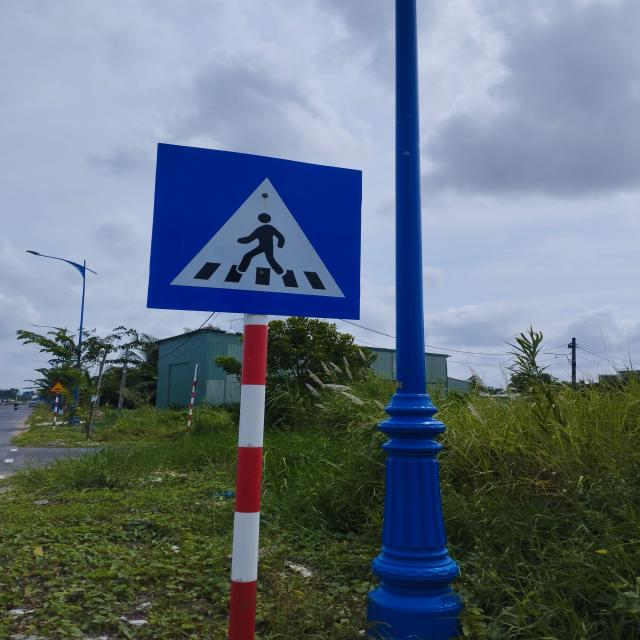Giao_Nhau_Duong_Uu_Tien: (146, 143, 364, 320)
